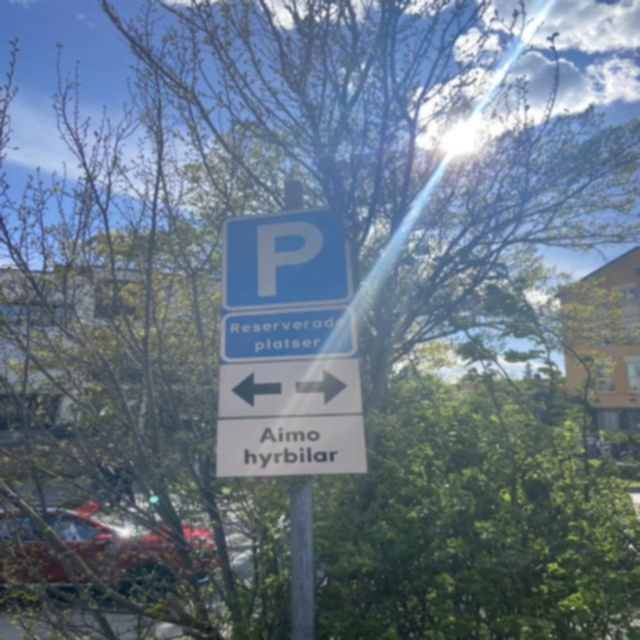P-skylt: (223, 213, 350, 303)
